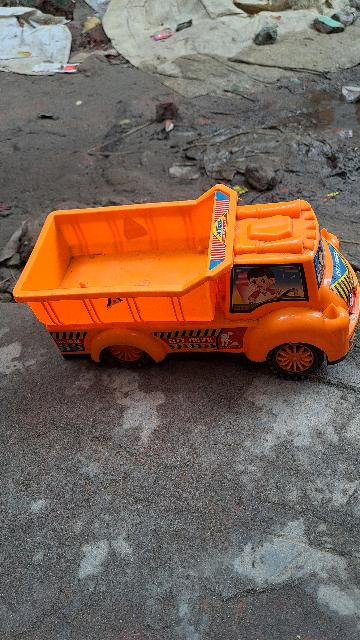hardplastic: (0, 171, 360, 385)
